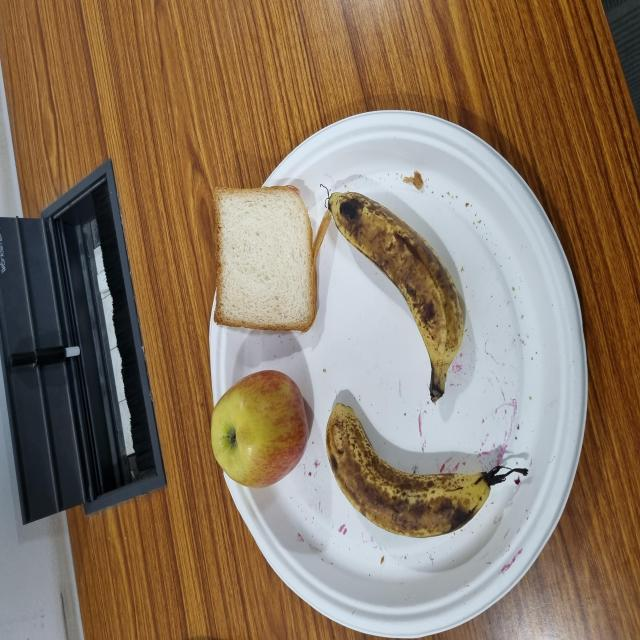apple: (211, 371, 314, 490)
banana: (329, 192, 466, 393), (326, 403, 491, 538)
